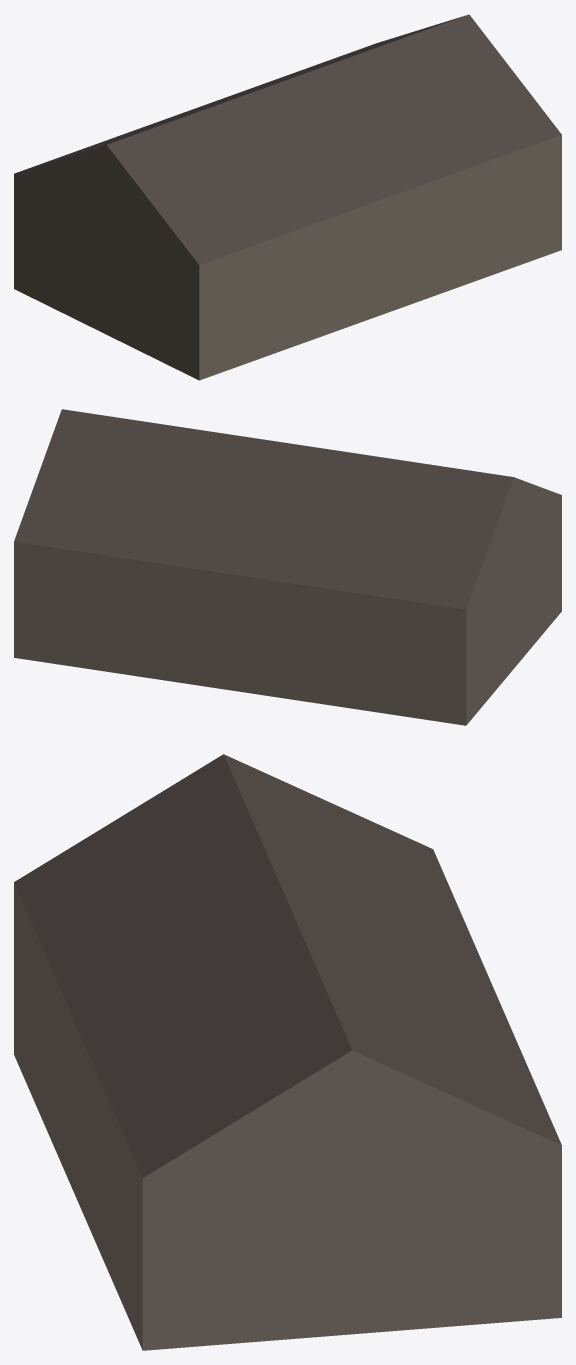
3 renders of one model, top to bottom at view 1: azimuth 30°, elevation 25°; view 2: azimuth 150°, elevation 25°; view 3: azimuth 270°, elevation 25°, orthographic. The views are drawn at different scales.
Visible parts, largest first — view 1: HP-w858807457; view 2: HP-w858807457; view 3: HP-w858807457.
Part boxes in pixels (box(x1,y1,x2,y2)): HP-w858807457: box(14, 14, 561, 380); HP-w858807457: box(14, 409, 561, 725); HP-w858807457: box(14, 754, 561, 1350).
Size of the model in its own units: 12.27 by 4.94 by 8.64.
